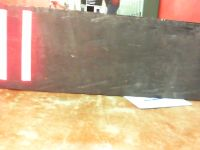switch: (20, 10, 32, 81), (1, 9, 8, 80)
